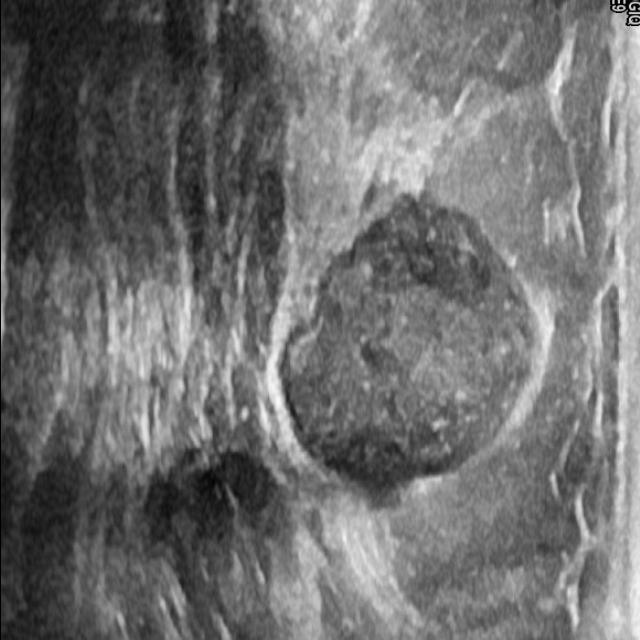Benign: (290, 222, 542, 476)
